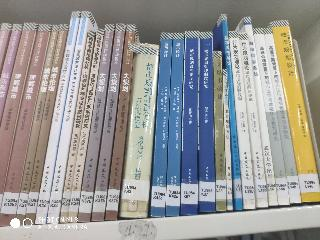book-spine: (0, 22, 50, 227), (268, 20, 320, 205), (36, 10, 80, 222), (47, 10, 89, 223), (26, 23, 68, 224), (18, 24, 58, 224), (261, 27, 301, 204), (79, 24, 114, 221), (242, 17, 278, 206), (69, 28, 104, 221), (0, 21, 37, 203), (92, 23, 125, 220), (253, 27, 289, 205), (122, 45, 158, 216), (62, 32, 94, 221), (106, 24, 135, 220), (238, 33, 268, 207), (228, 32, 255, 209), (220, 14, 243, 209), (152, 33, 172, 216), (196, 32, 215, 212), (167, 34, 183, 215), (182, 32, 198, 213), (211, 51, 226, 211), (0, 23, 22, 123), (221, 70, 233, 209)
